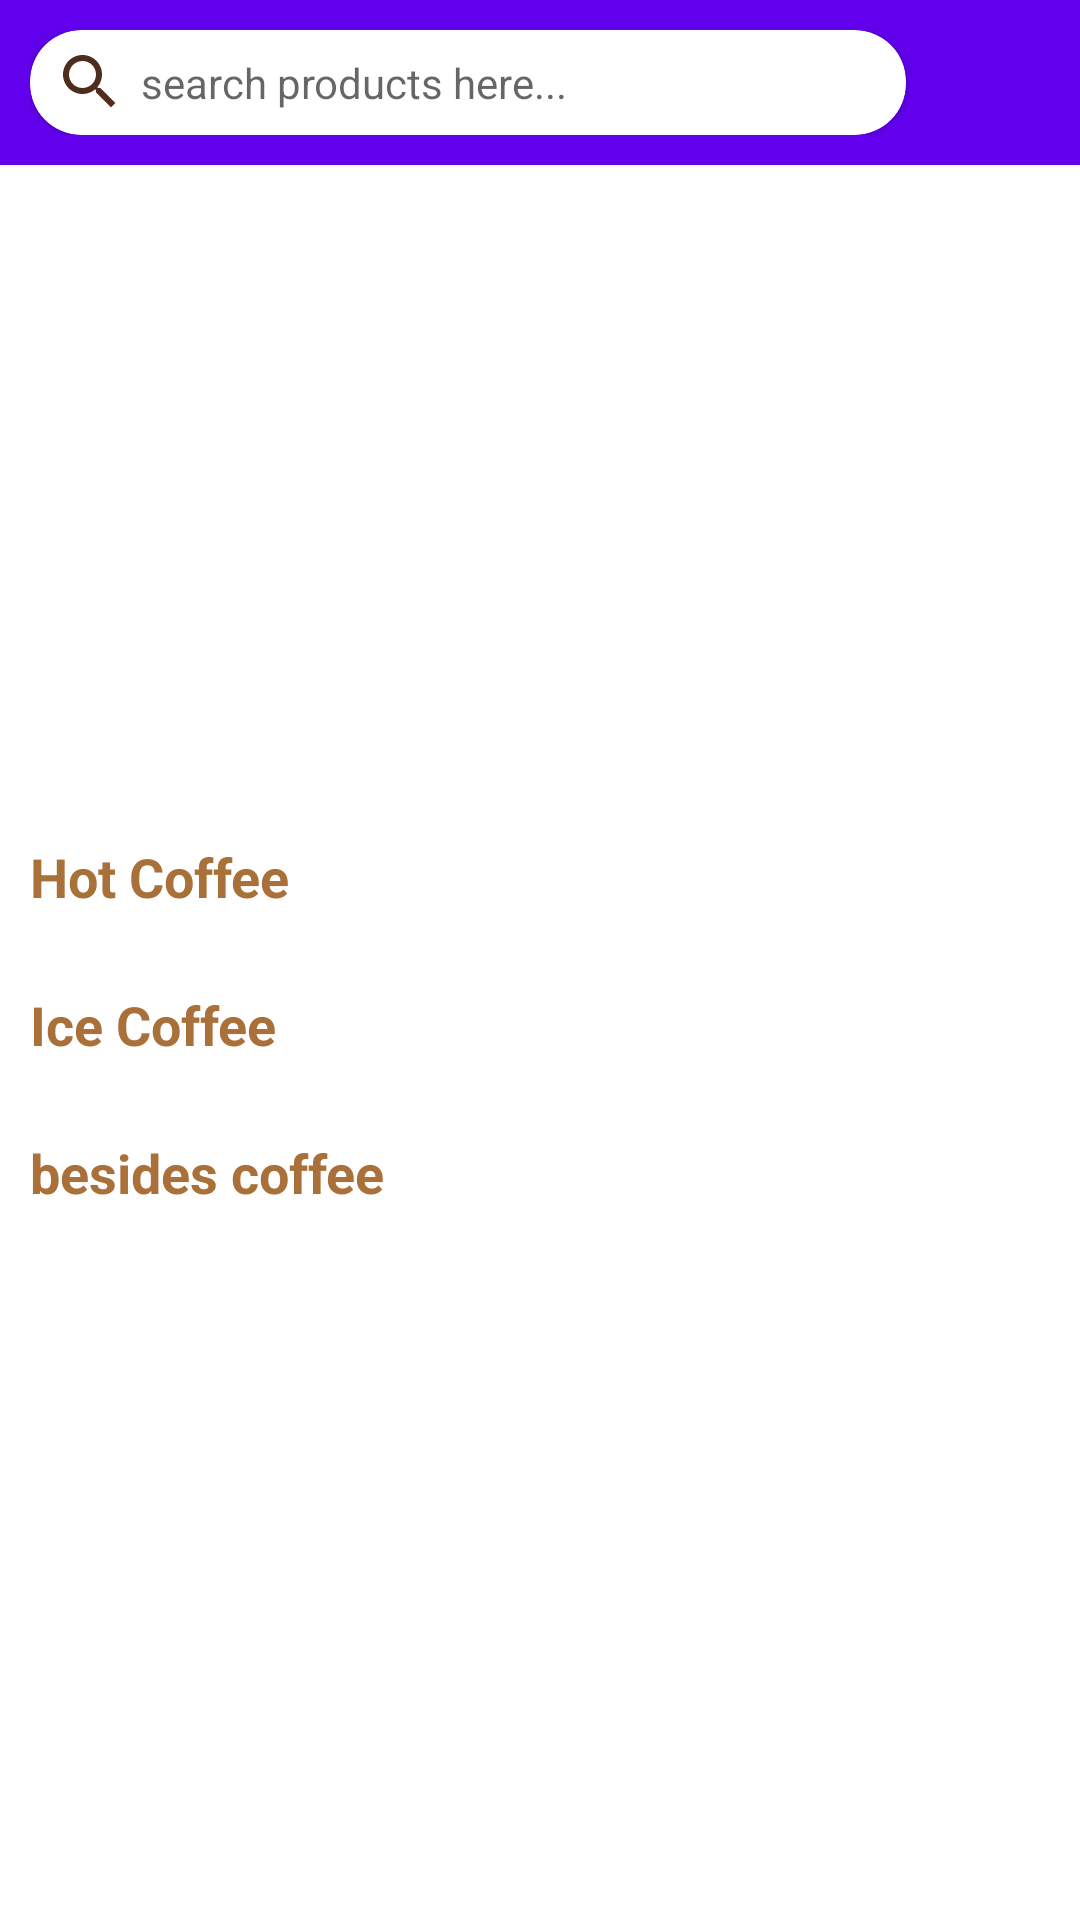

Screen size 1080px x 1920px. Icon name, then its box in pixels as (x1, y1, x2, y2):
search brown: (63, 55, 115, 107)
